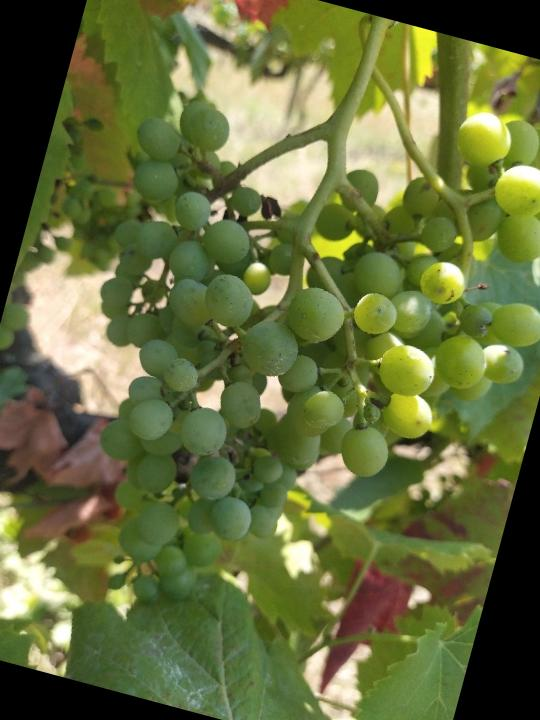grape: (21, 25, 540, 689)
